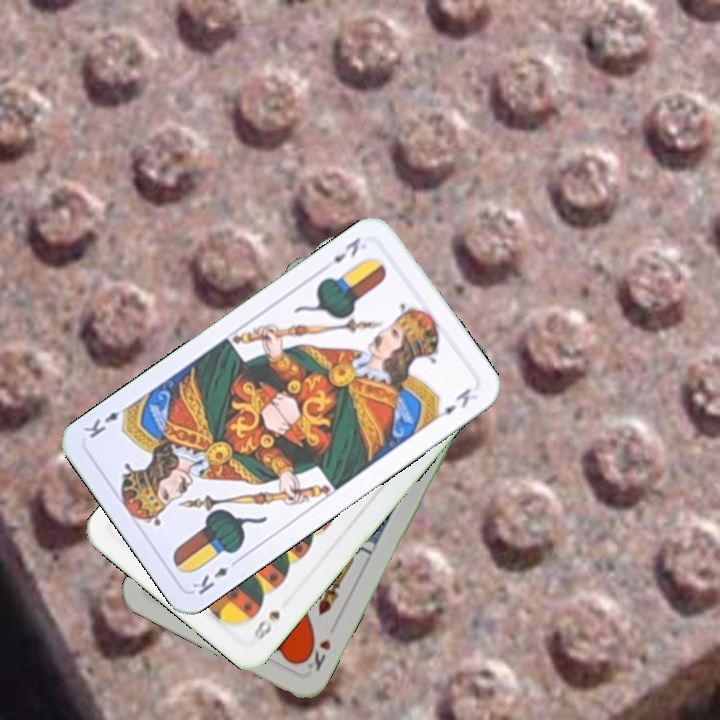EK: (188, 554, 242, 598), (328, 233, 363, 266)
HK: (299, 634, 334, 674)
S8: (249, 606, 283, 644)
